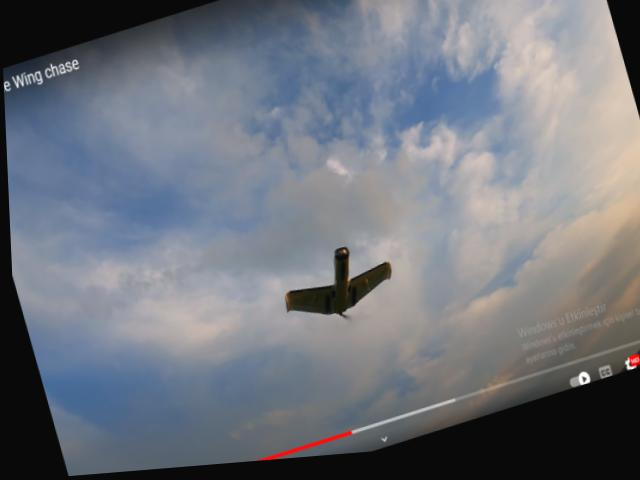plane: (271, 239, 397, 338)
